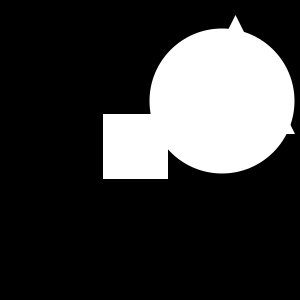circle: (103, 114, 168, 179)
rectangle: (150, 28, 294, 174)
triangle: (176, 15, 295, 134)
